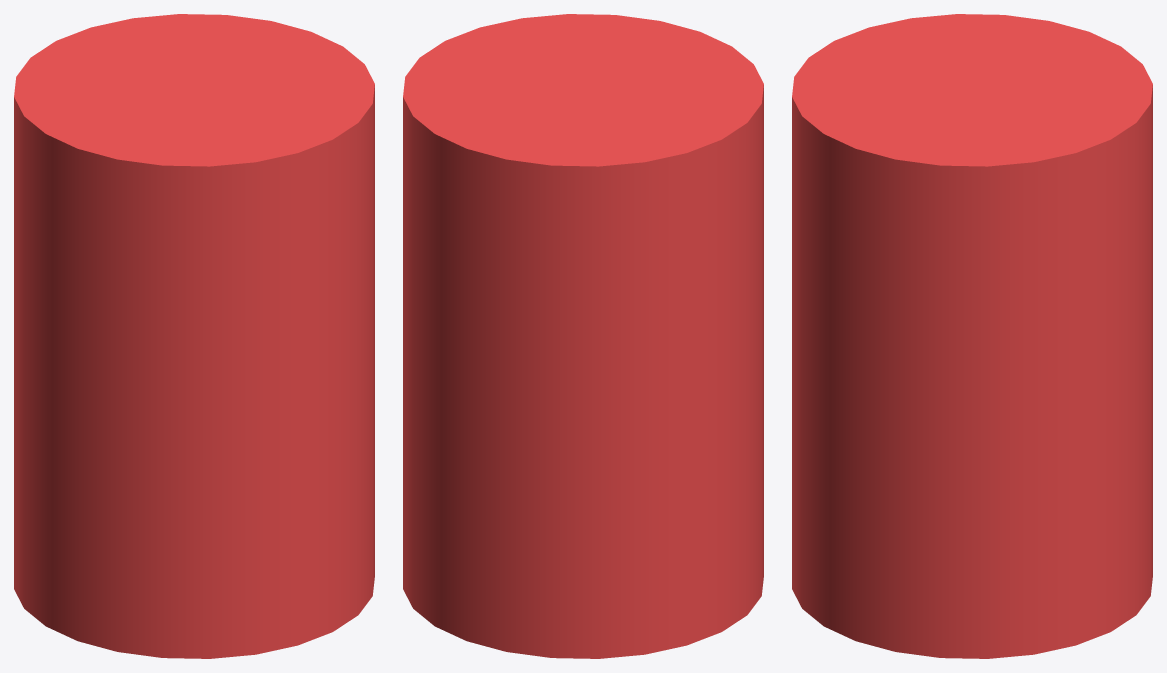
3 renders of one model, left to right at view 1: azimuth 30°, elevation 25°; view 2: azimuth 150°, elevation 25°; view 3: azimuth 270°, elevation 25°, orthographic.
Parts seen in each view (by area): view 1: SketchUp; view 2: SketchUp; view 3: SketchUp.
Part boxes in pixels (<box>): SketchUp: <box>14,14,374,658</box>; SketchUp: <box>403,14,763,658</box>; SketchUp: <box>792,14,1152,658</box>.
Bounding box in the file's own units: 15.69 × 15.69 × 23.62.
